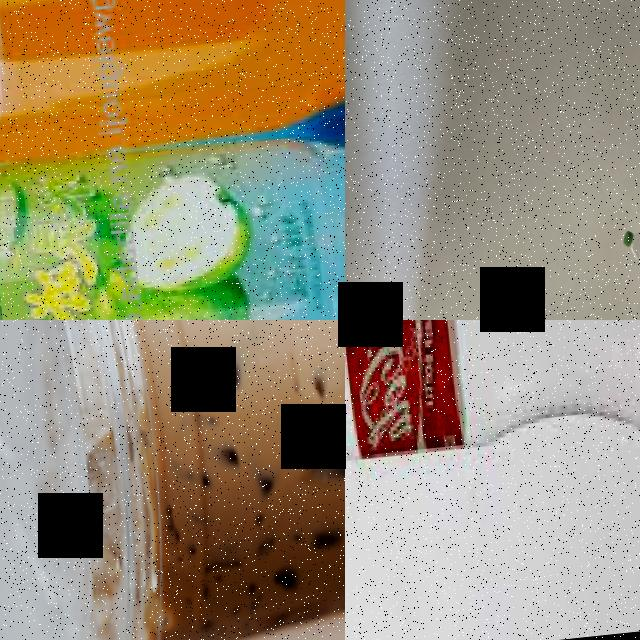bottle: (345, 320, 640, 476), (621, 221, 640, 301)
can: (0, 112, 345, 320), (0, 0, 345, 171)
cup: (0, 320, 345, 640)
